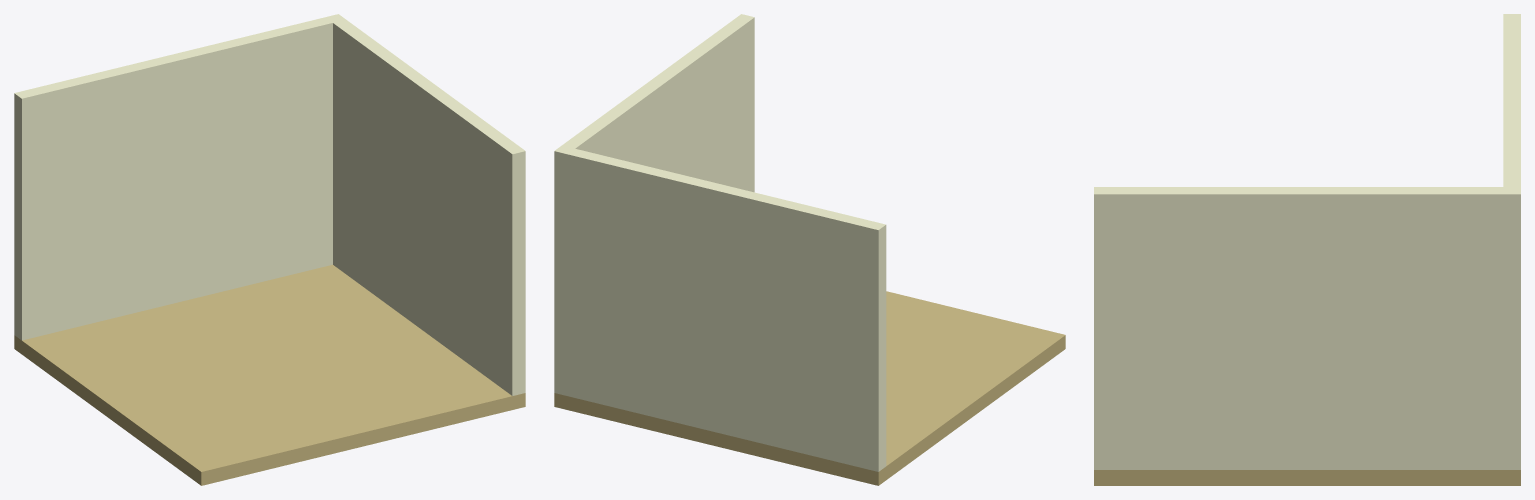
Rendered from room7.glb.
3 renders of one model, left to right at view 1: azimuth 30°, elevation 25°; view 2: azimuth 150°, elevation 25°; view 3: azimuth 270°, elevation 25°, orthographic. The views are drawn at different scales.
Parts seen in each view (by area): view 1: room7; view 2: room7; view 3: room7.
Part boxes in pixels (x1,y1,x2,y2): room7: (14,14,525,485); room7: (554,14,1065,485); room7: (1094,14,1520,485).
Size of the model in its own units: 3.65 by 2.75 by 3.65.
